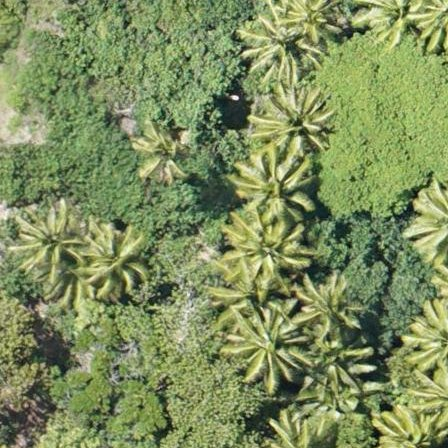palm_tree: (16, 206, 88, 285), (234, 149, 310, 223), (227, 215, 301, 289), (238, 14, 313, 85), (227, 310, 301, 380), (79, 225, 146, 298), (253, 89, 328, 152), (295, 280, 355, 337), (304, 329, 365, 384), (133, 123, 188, 183)
